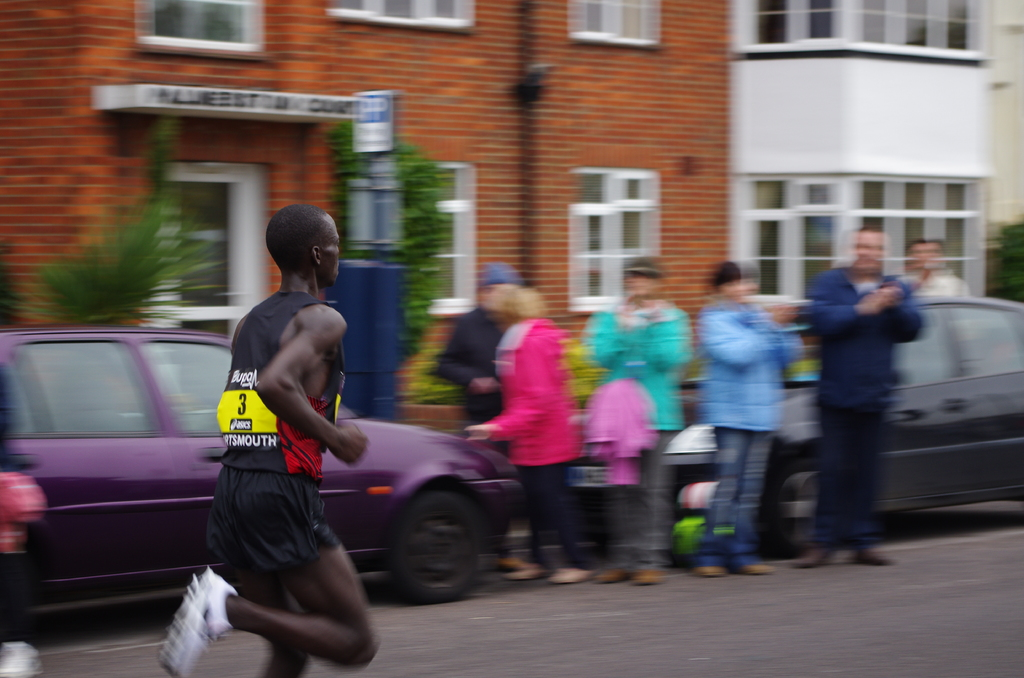Car: (0, 321, 515, 601), (562, 296, 1023, 546)
